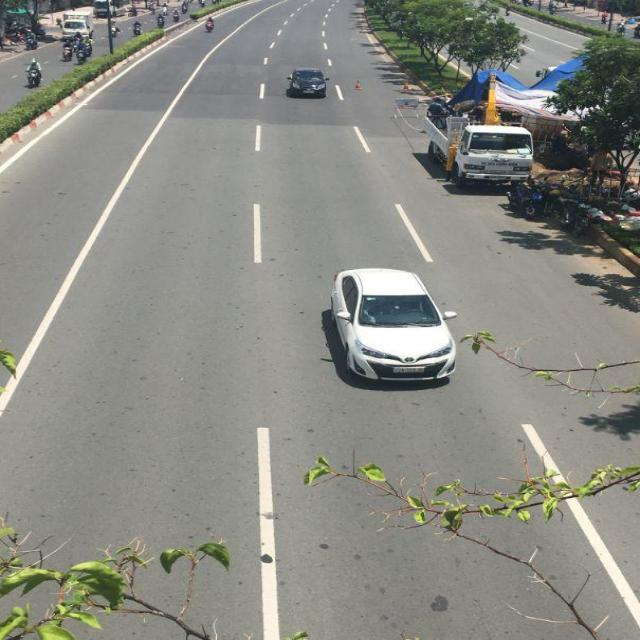car: (318, 266, 462, 385), (287, 70, 327, 100)
motorcycle: (24, 61, 42, 86)
truck: (424, 114, 536, 190), (61, 17, 92, 37)
